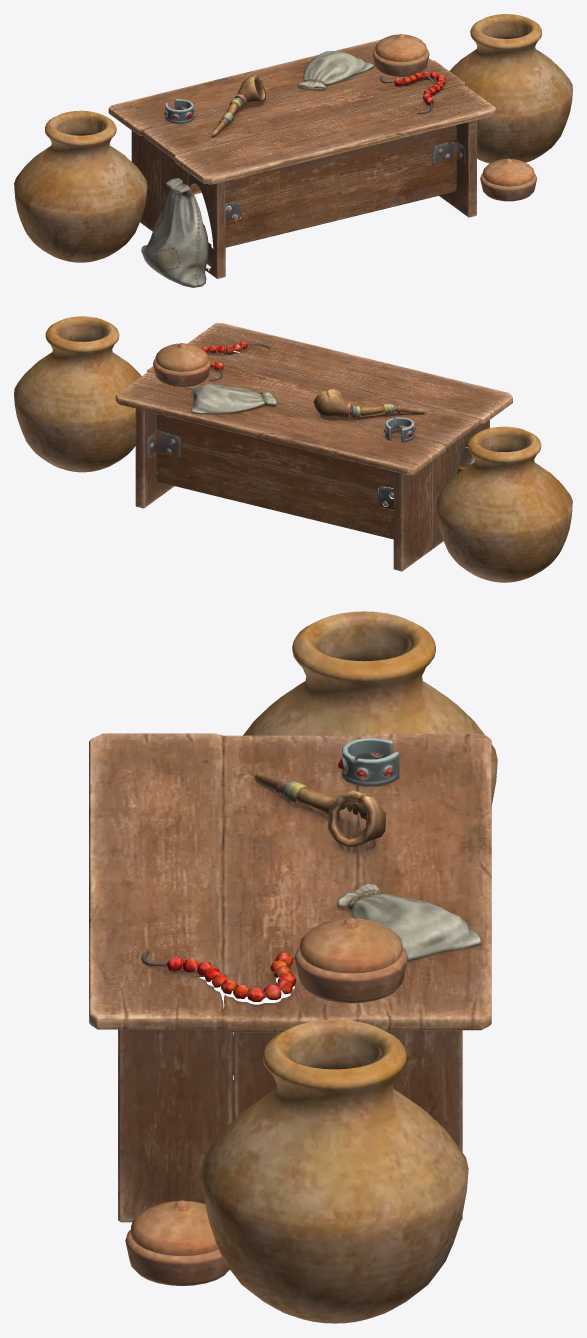
3 views of the same model, one above another, from view 1: azimuth 30°, elevation 25°; view 2: azimuth 150°, elevation 25°; view 3: azimuth 270°, elevation 25° (orthographic). The views are drawn at different scales.
Visible parts, largest first — view 1: SM_Moon_Garou_Decoration_Table_01_LOD0; view 2: SM_Moon_Garou_Decoration_Table_01_LOD0; view 3: SM_Moon_Garou_Decoration_Table_01_LOD0.
Boxes of the visible parts, x1,y1,x2,y2 form: SM_Moon_Garou_Decoration_Table_01_LOD0: [14, 14, 572, 287]; SM_Moon_Garou_Decoration_Table_01_LOD0: [14, 316, 572, 582]; SM_Moon_Garou_Decoration_Table_01_LOD0: [89, 611, 497, 1323].
Size of the model in its own units: 3.06 by 0.7959 by 1.02.
Materials: 2 (2 with a texture image).
